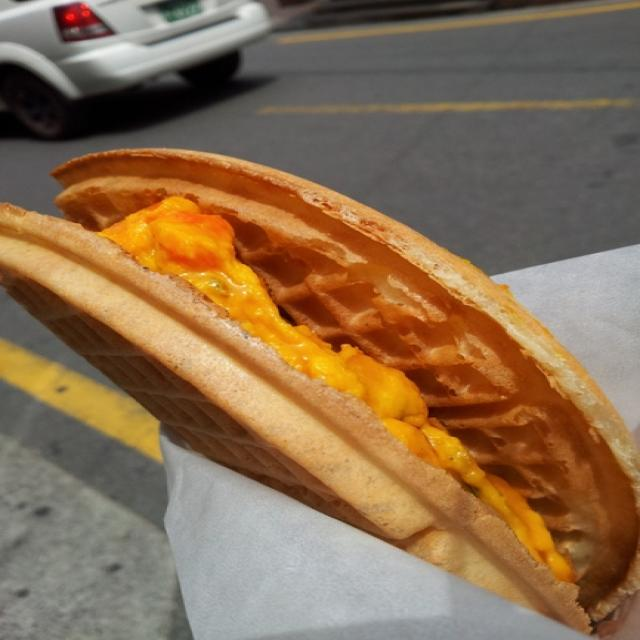炸货点心: (9, 101, 631, 626)
蛋糕甜品: (9, 101, 631, 626)
